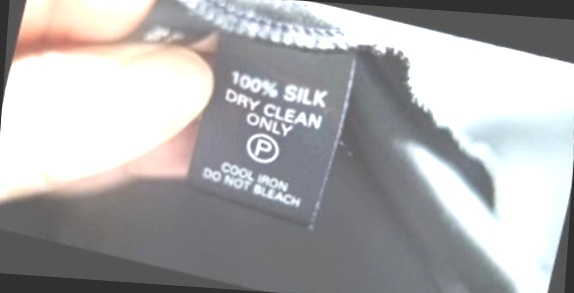dry_clean_any_solvent_except_trichloroethylene: (238, 123, 290, 173)
